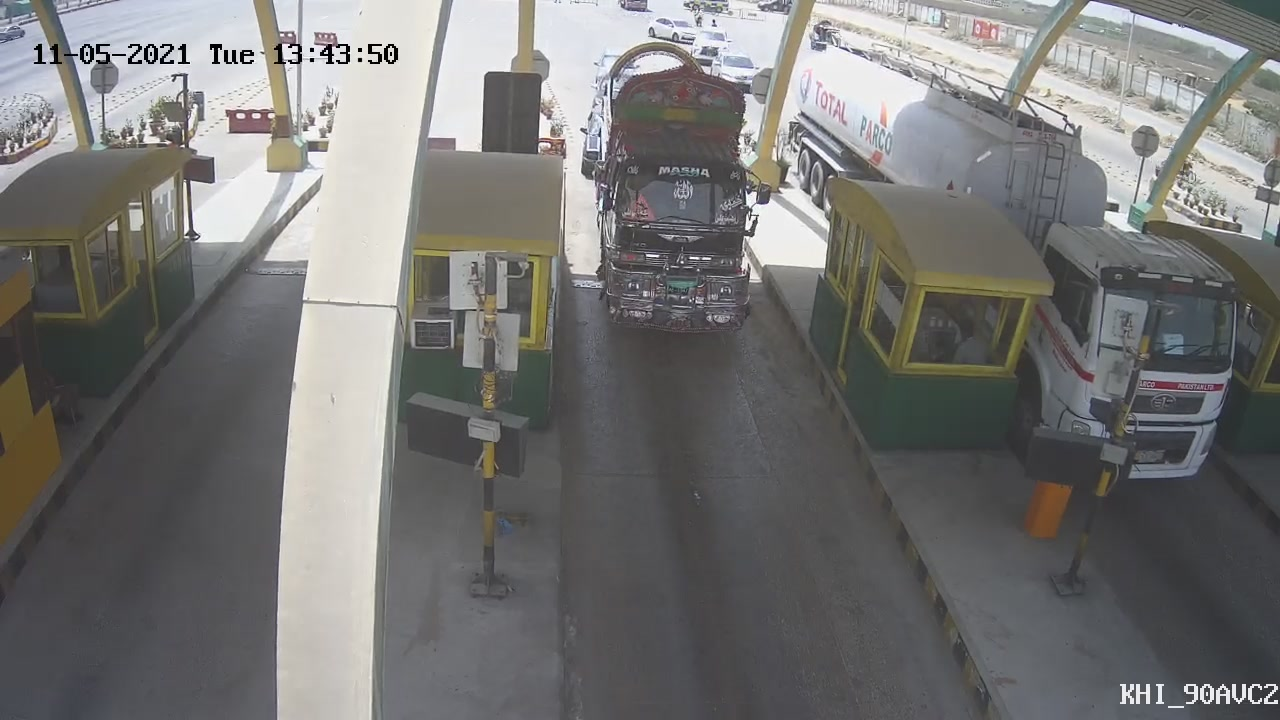F5: (591, 40, 775, 367)
